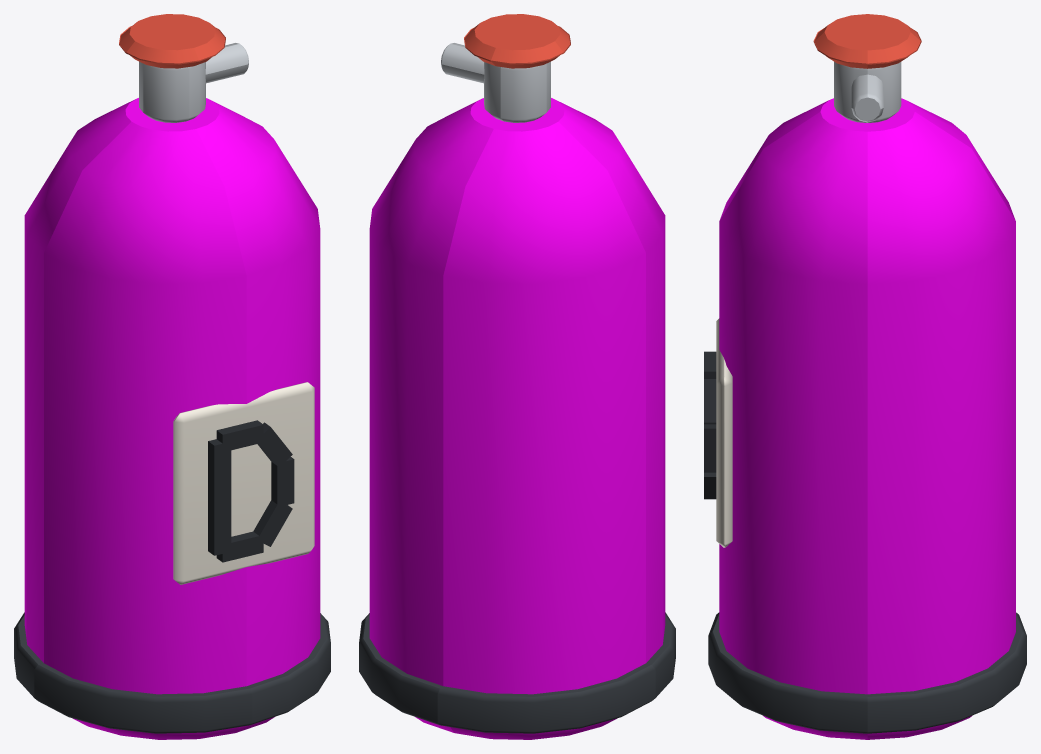
Rendered from objet_deuterium.glb.
The picture shows the model from 3 angles, left to right: view 1: azimuth 30°, elevation 25°; view 2: azimuth 150°, elevation 25°; view 3: azimuth 270°, elevation 25°; orthographic projection.
Parts seen in each view (by area): view 1: bonbonne_teinte.006, bonbonne_etiquette.004, bonbonne_teinte_sombre.006, bonbonne_composant.004, bonbonne_composant_clair.006, bonbonne_led_rouge.004; view 2: bonbonne_teinte.006, bonbonne_teinte_sombre.006, bonbonne_composant_clair.006, bonbonne_led_rouge.004; view 3: bonbonne_teinte.006, bonbonne_teinte_sombre.006, bonbonne_led_rouge.004, bonbonne_composant_clair.006, bonbonne_etiquette.004, bonbonne_composant.004.
Boxes of the visible parts, left/top/right/bottom form: bonbonne_teinte.006: left=24, top=98, right=320, bottom=739; bonbonne_etiquette.004: left=173, top=382, right=314, bottom=584; bonbonne_teinte_sombre.006: left=14, top=612, right=330, bottom=733; bonbonne_composant.004: left=208, top=420, right=294, bottom=562; bonbonne_composant_clair.006: left=139, top=43, right=248, bottom=122; bonbonne_led_rouge.004: left=119, top=14, right=225, bottom=68; bonbonne_teinte.006: left=369, top=98, right=665, bottom=739; bonbonne_teinte_sombre.006: left=359, top=612, right=675, bottom=733; bonbonne_composant_clair.006: left=441, top=43, right=550, bottom=122; bonbonne_led_rouge.004: left=464, top=14, right=570, bottom=68; bonbonne_teinte.006: left=719, top=98, right=1015, bottom=739; bonbonne_teinte_sombre.006: left=708, top=612, right=1026, bottom=733; bonbonne_led_rouge.004: left=813, top=14, right=921, bottom=68; bonbonne_composant_clair.006: left=834, top=62, right=901, bottom=122; bonbonne_etiquette.004: left=716, top=318, right=732, bottom=547; bonbonne_composant.004: left=704, top=351, right=716, bottom=499.
Bounding box in the file's own units: 0.118 × 0.2675 × 0.1196.
